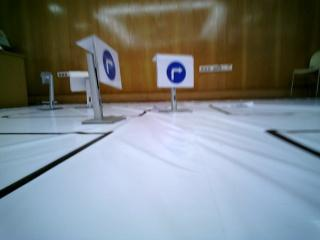right: (92, 37, 123, 88), (155, 55, 195, 89)
